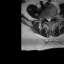CCS_stenosis: (48, 17, 50, 24)
LFS_stenosis: (52, 14, 53, 20)
LLS_normal: (50, 17, 52, 23)
RFS_severe_stenosis: (44, 16, 46, 21)
RLS_stenosis: (46, 16, 48, 22)
